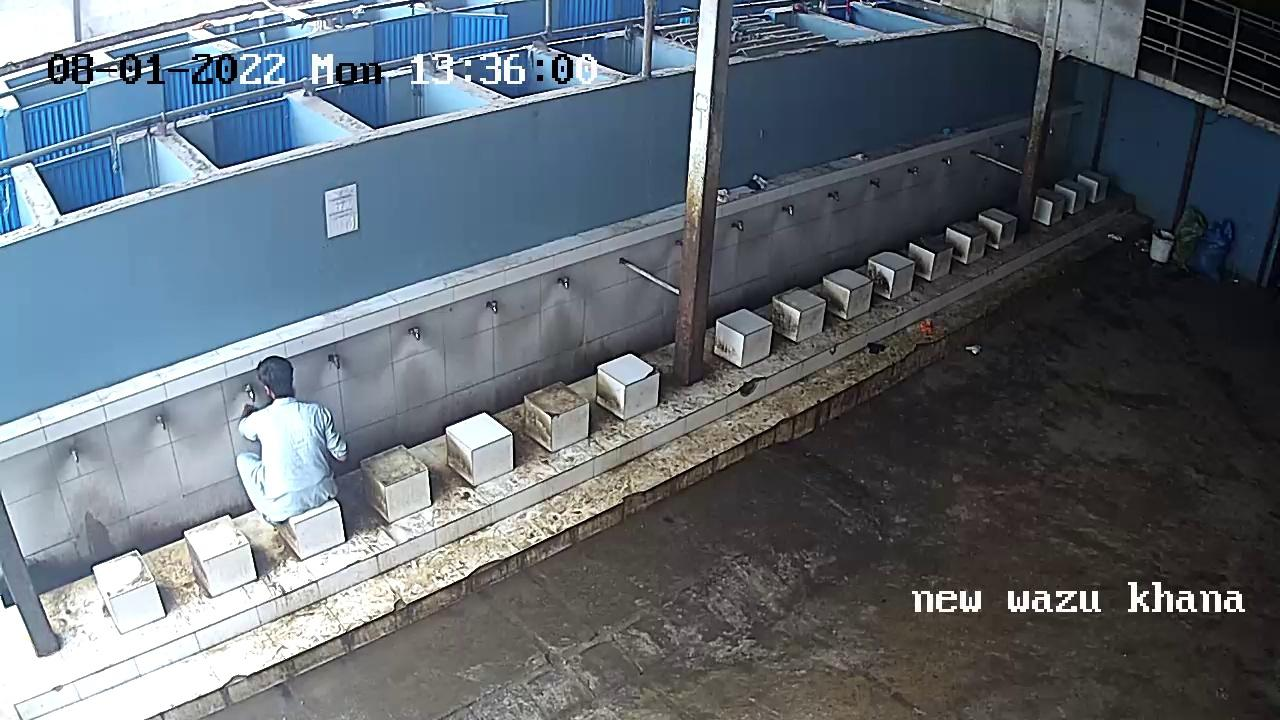person: (244, 360, 339, 508)
